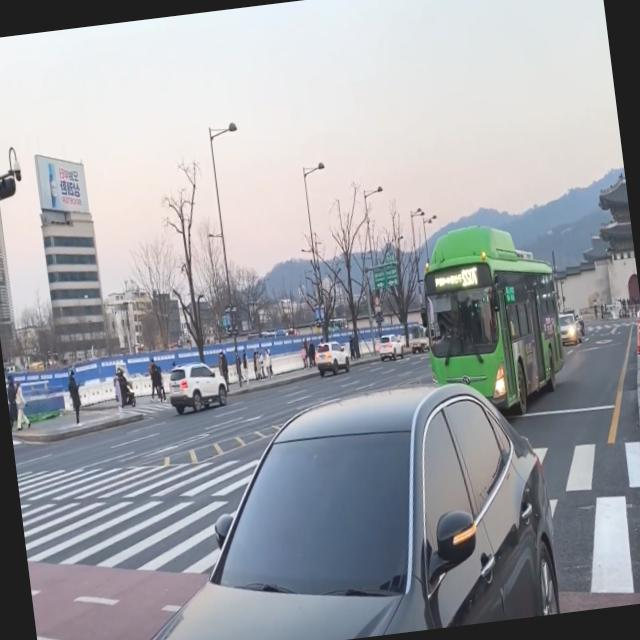bus-number: (459, 266, 478, 286)
